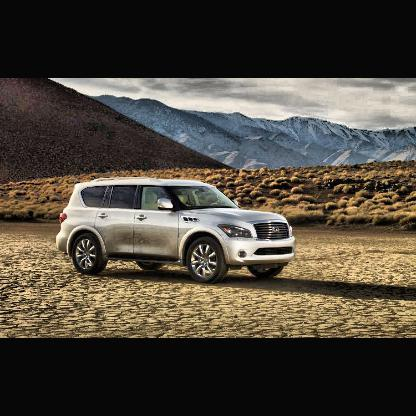Infiniti QX56 SUV 2011: (56, 176, 298, 286)
